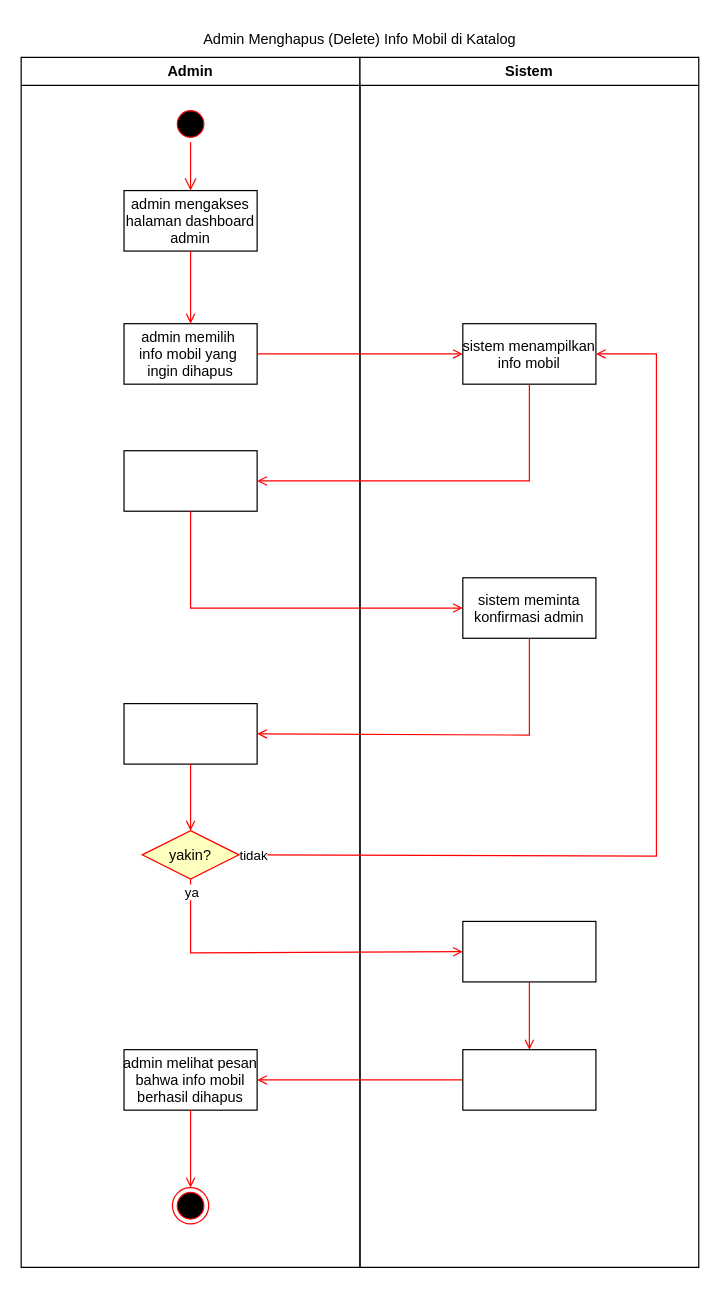
The diagram is 720 pixels wide and 1289 high, and some of its shapes have lost their labels. Here are the shapes that lost their labels. From the top down, the centre of each, then its label:
(190,480): admin menekan tombol "Delete" di laman info mobil
(190,733): user memilih ya/tidak pada panel konfirmasi
(529,951): sistem menghapus info mobil dari database
(529,1079): sistem menampilkan pesan berhasil dihapus
